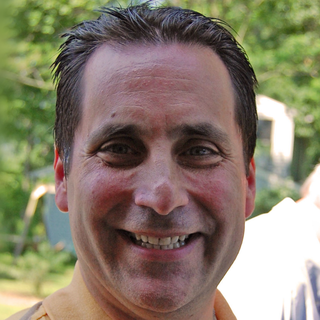eye: (94, 139, 148, 163), (178, 141, 224, 164)
